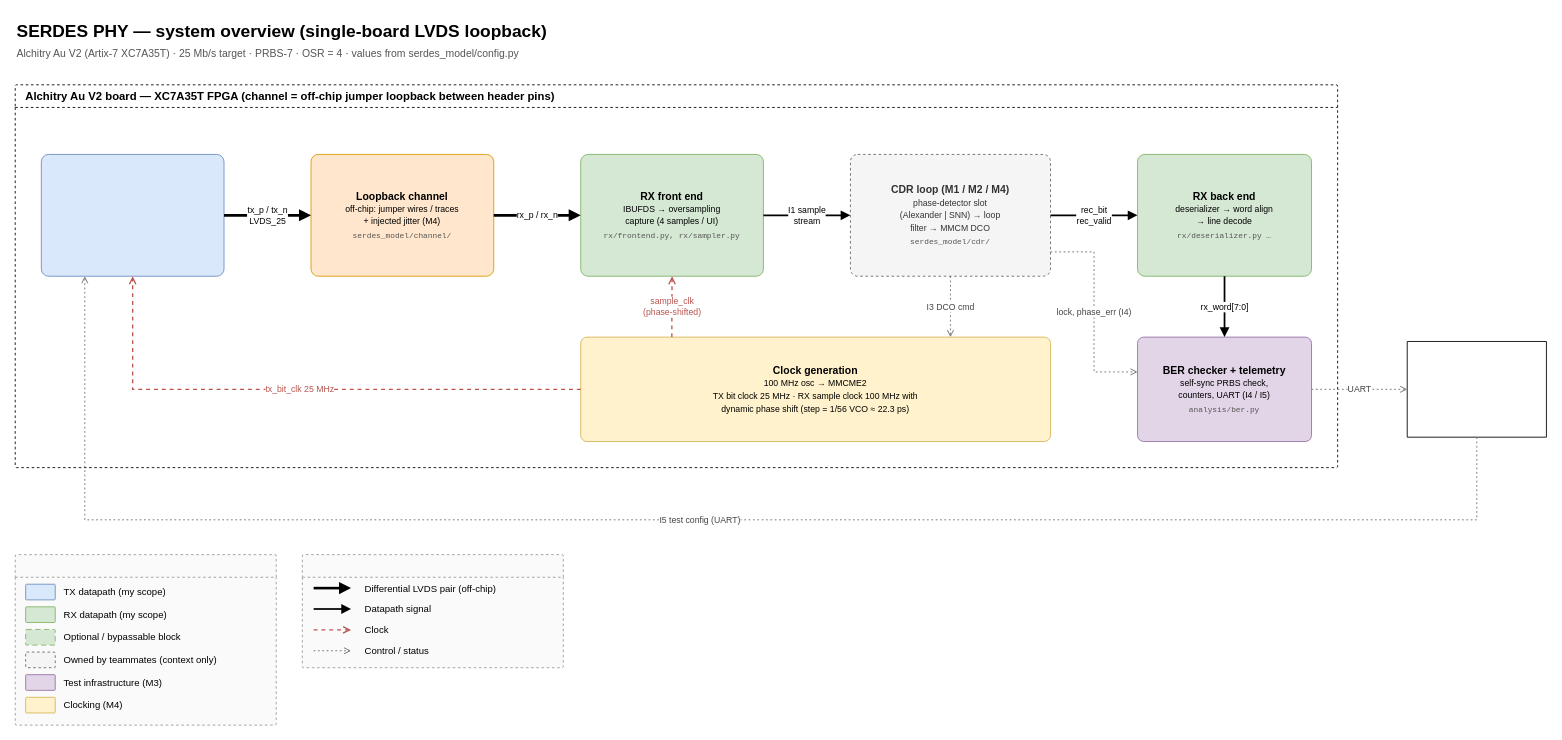
This 1562x740 diagram has some shape labels left out. The shapes that lost their labels are listed below. From the top down, each one's box as (x1, y1, x2, y2) in pixels, then its label:
(40, 154, 224, 276): TX datapath PRBS gen → (line enc) → serializer → OBUFDS serdes_model/tx/
(1406, 341, 1546, 437): Host PC Python: sweeps, logging, plots
(301, 554, 563, 668): Signal types
(14, 554, 276, 725): Legend
